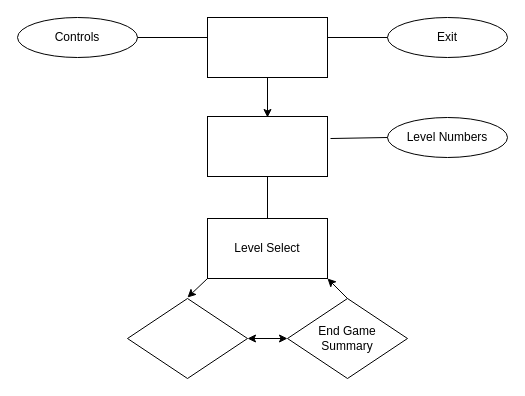
Image size: 525x396. Some labels were removed from this diagram. Here are the shapes that lost their labels. From the top down, the centre of each, then its label:
point 267,47: Main Menu
point 267,146: Start Game
point 187,338: In Game
